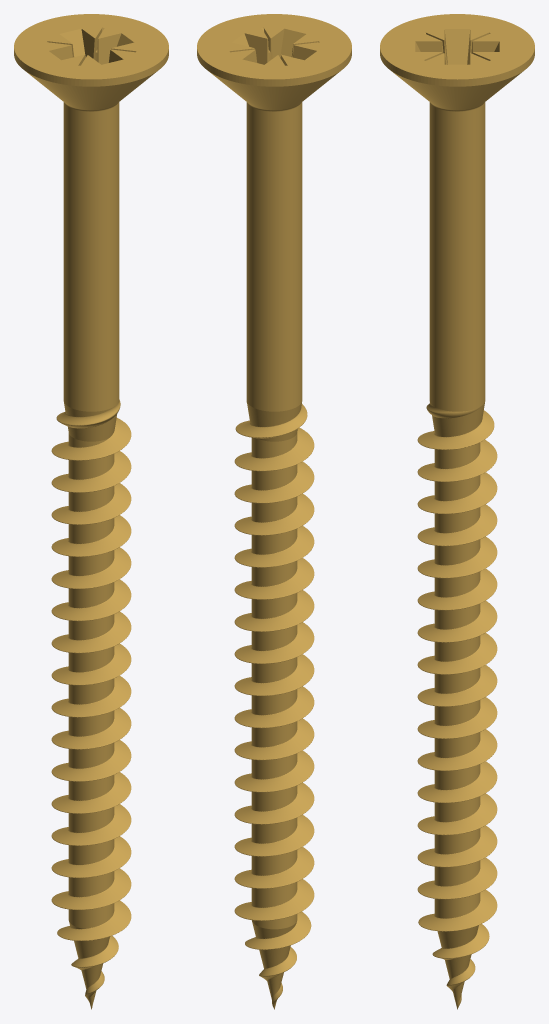
File: model_full.glb
3 renders of one model, left to right at view 1: azimuth 30°, elevation 25°; view 2: azimuth 150°, elevation 25°; view 3: azimuth 270°, elevation 25°, orthographic.
Parts seen in each view (by area): view 1: geometry_0; view 2: geometry_0; view 3: geometry_0.
Part boxes in pixels (box(x1,y1,x2,y2)): geometry_0: box(14, 14, 168, 1009); geometry_0: box(197, 14, 351, 1009); geometry_0: box(380, 14, 534, 1009).
Bounding box in the file's own units: 0.00875 × 0.06 × 0.00875.
